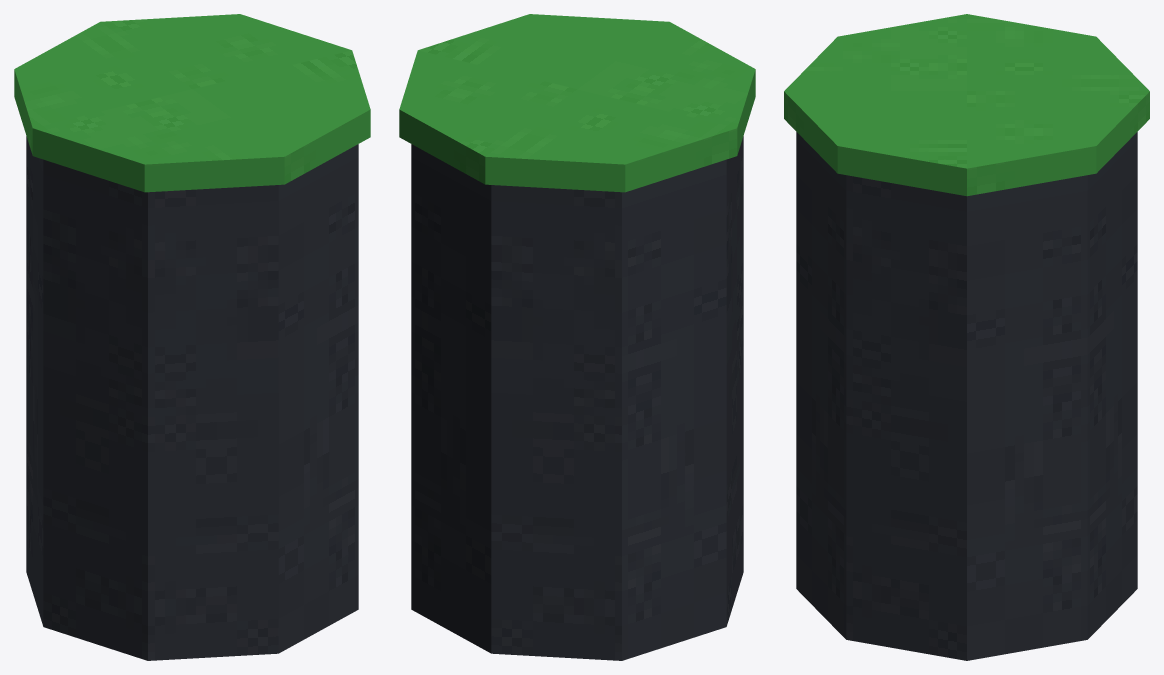
The picture shows the model from 3 angles, left to right: view 1: azimuth 30°, elevation 25°; view 2: azimuth 150°, elevation 25°; view 3: azimuth 270°, elevation 25°; orthographic projection.
Parts seen in each view (by area): view 1: Decor_trash_bin; view 2: Decor_trash_bin; view 3: Decor_trash_bin.
Part boxes in pixels (x1,y1,x2,y2): Decor_trash_bin: [14, 14, 370, 660]; Decor_trash_bin: [399, 14, 755, 660]; Decor_trash_bin: [784, 14, 1149, 660].
Bounding box in the file's own units: 0.6 × 0.9 × 0.6.
2 materials, 2 textured.
